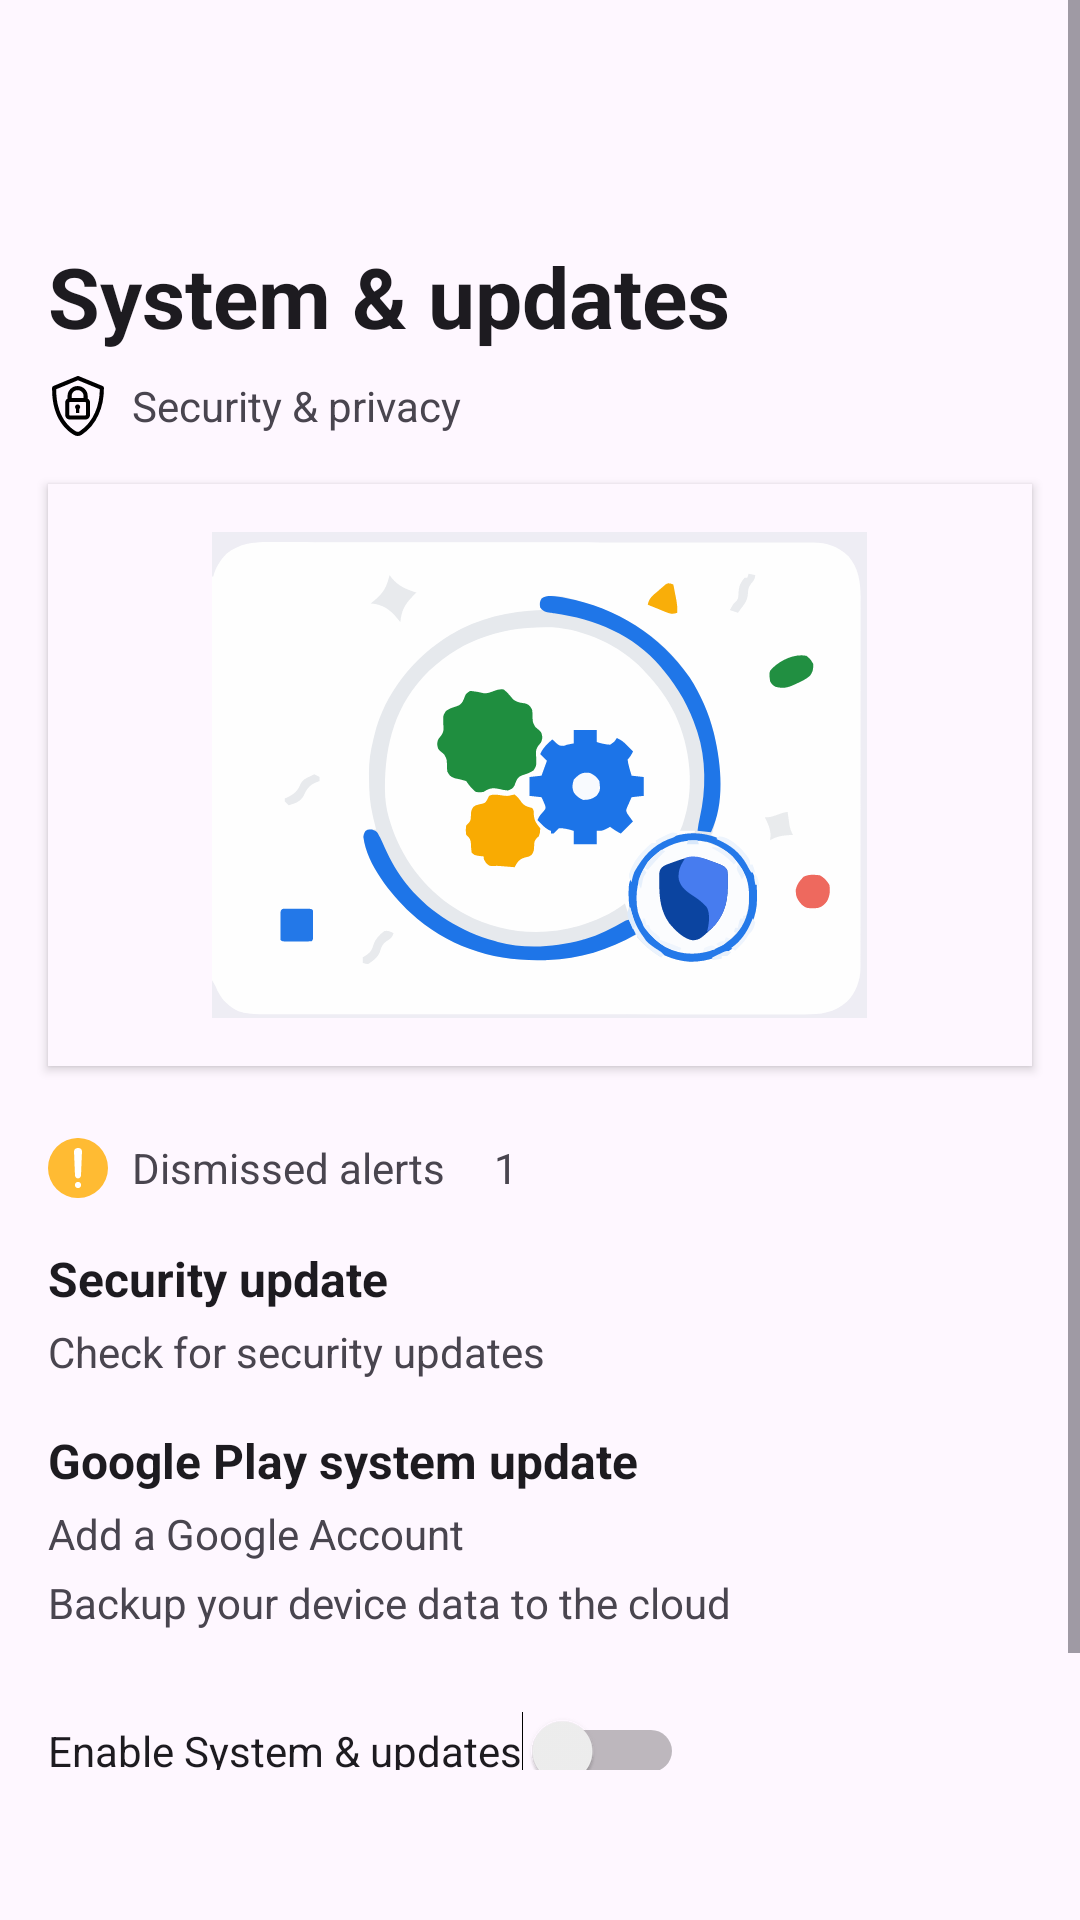

Locate icon controls on the screen. Image size 1080w x 1920h, boxes as box(x1, y1, x2, y2).
security exclamation: box(48, 1138, 108, 1198)
shield: box(52, 376, 104, 436)
